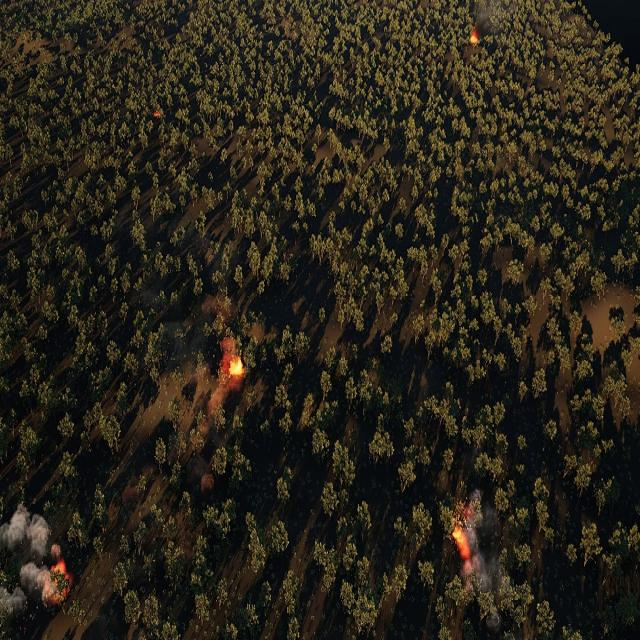fire: (48, 558, 73, 600), (452, 526, 470, 559), (232, 356, 246, 376), (470, 31, 478, 44), (152, 108, 162, 118)
smoke: (0, 510, 61, 615), (464, 496, 506, 593), (165, 316, 240, 370), (474, 0, 501, 33)
